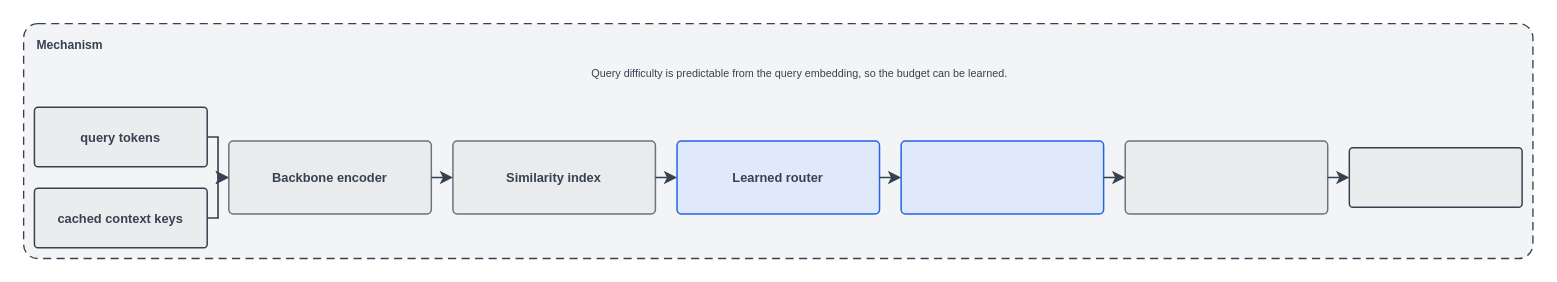
The diagram is 1557 pixels wide and 282 high, and some of its shapes have lost their labels. Each missing label, with the centre of its shape:
answer tokens: the point at 1435,176
Budget controller: the point at 1002,177
Decoder: the point at 1226,177
